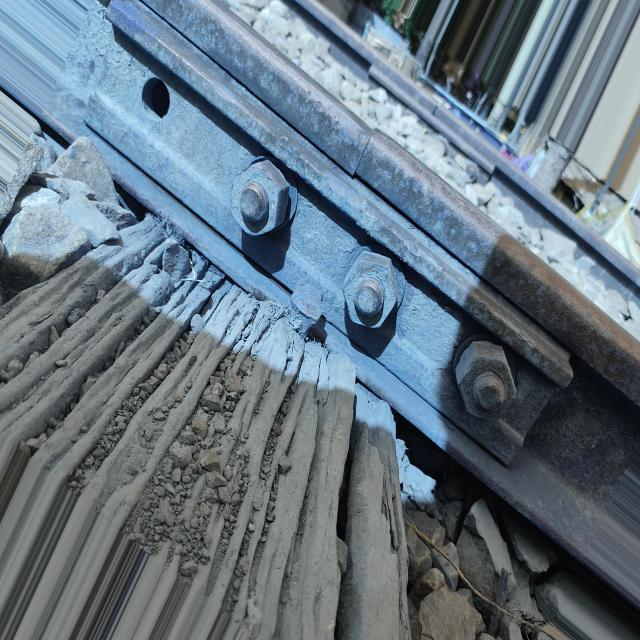Defective Joint: (81, 0, 570, 464)
